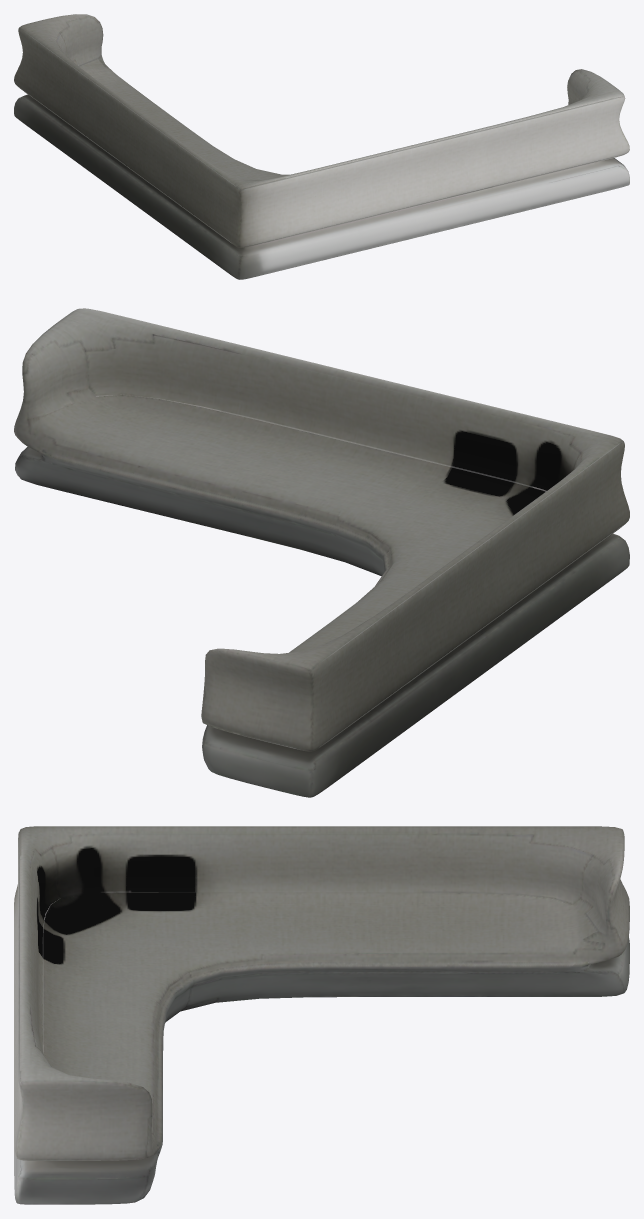
File: sofa.glb
The picture shows the model from 3 angles, top to bottom: view 1: azimuth 30°, elevation 25°; view 2: azimuth 150°, elevation 25°; view 3: azimuth 270°, elevation 25°; orthographic projection. The views are drawn at different scales.
Parts seen in each view (by area): view 1: Sofa; view 2: Sofa; view 3: Sofa.
Boxes of the visible parts, x1,y1,x2,y2 form: Sofa: [14, 14, 629, 279]; Sofa: [14, 308, 629, 797]; Sofa: [14, 826, 629, 1204].
Size of the model in its own units: 16.95 by 3.72 by 16.95.
Materials: 1 (1 with a texture image).
